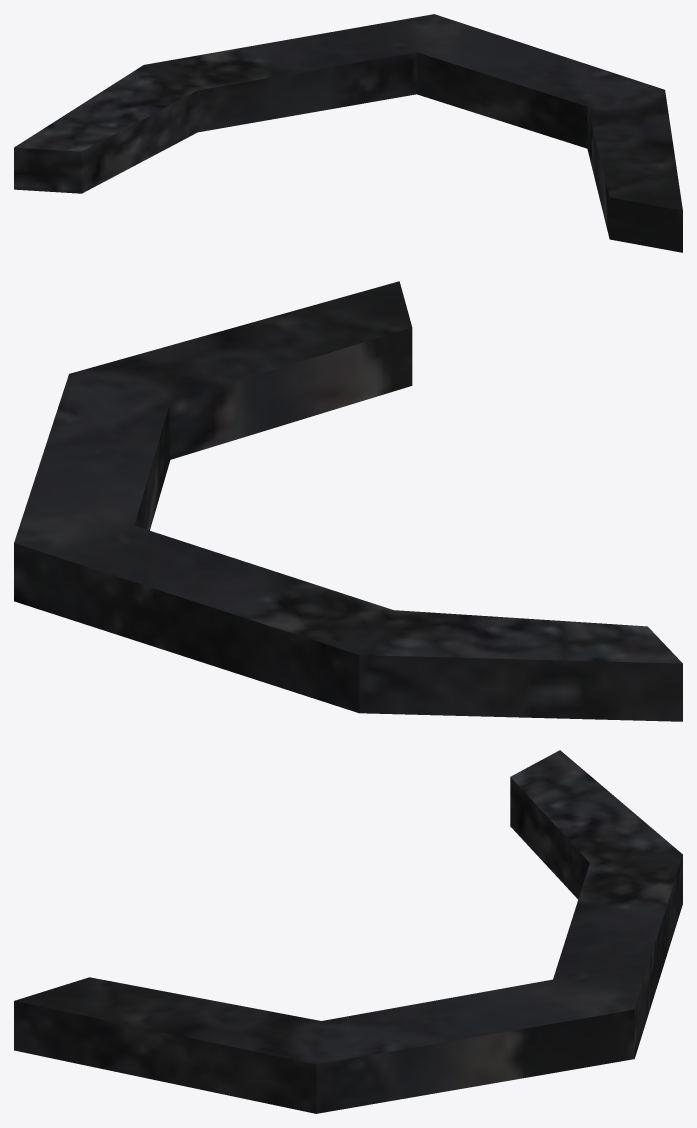
File: Ship_part_03.FBX
3 views of the same model, one above another, from view 1: azimuth 30°, elevation 25°; view 2: azimuth 150°, elevation 25°; view 3: azimuth 270°, elevation 25° (orthographic). The views are drawn at different scales.
Visible parts, largest first — view 1: Ship_part_03; view 2: Ship_part_03; view 3: Ship_part_03.
Part boxes in pixels (left/top/right/bottom): Ship_part_03: left=14, top=14, right=682, bottom=252; Ship_part_03: left=14, top=281, right=682, bottom=721; Ship_part_03: left=14, top=750, right=682, bottom=1113.
Bounding box in the file's own units: 26.8 × 24.1 × 1.97.
